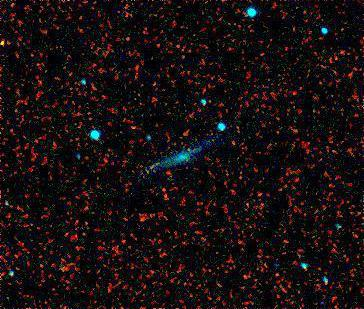star: (0, 30, 18, 60)
